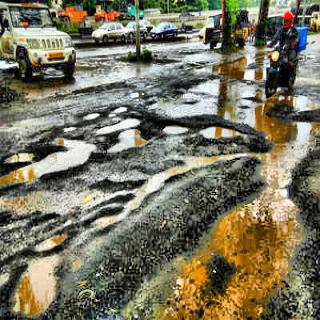pothole: (2, 106, 320, 320)
